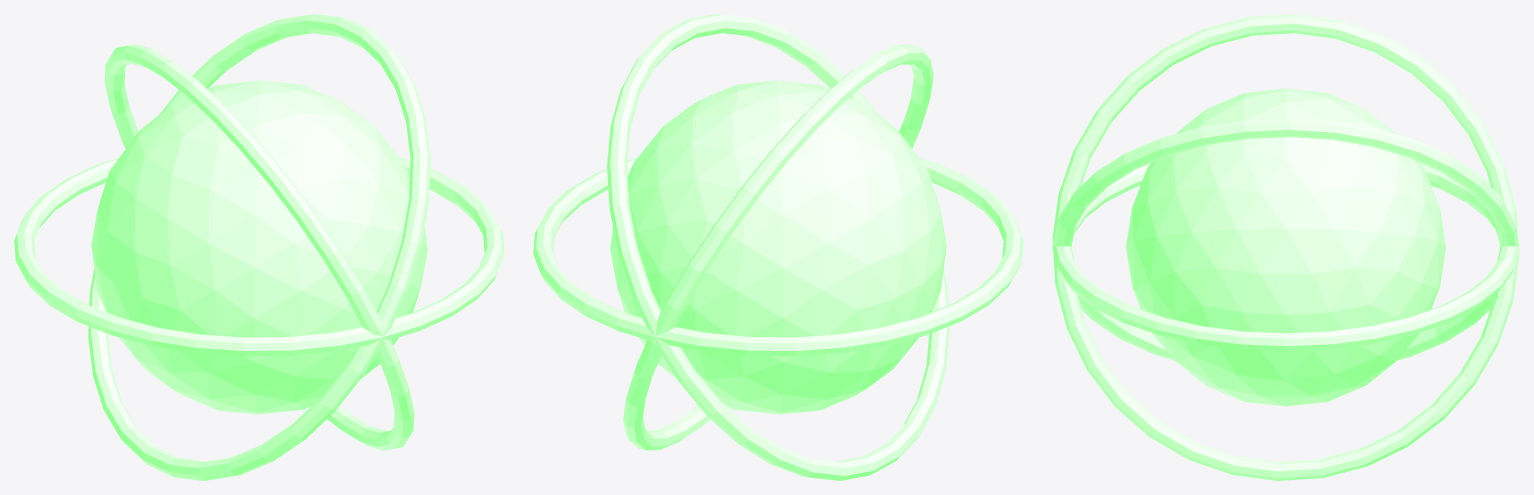
Rendered from radiation_01.glb.
3 renders of one model, left to right at view 1: azimuth 30°, elevation 25°; view 2: azimuth 150°, elevation 25°; view 3: azimuth 270°, elevation 25°, orthographic. The views are drawn at different scales.
Visible parts, largest first — view 1: isotope, orbit1, orbit0, orbit2; view 2: isotope, orbit1, orbit0, orbit2; view 3: isotope, orbit2, orbit1, orbit0.
Part boxes in pixels (x1,y1,x2,y2): isotope: (91,80,427,414); orbit1: (88,14,430,480); orbit0: (14,158,504,356); orbit2: (104,44,414,450); isotope: (610,80,946,414); orbit1: (607,14,949,480); orbit0: (533,158,1023,356); orbit2: (623,44,933,450); isotope: (1126,88,1445,406); orbit2: (1052,14,1519,480); orbit1: (1052,118,1519,360); orbit0: (1052,163,1519,351).
Bounding box in the file's own units: 2.19 × 1.99 × 2.19.
